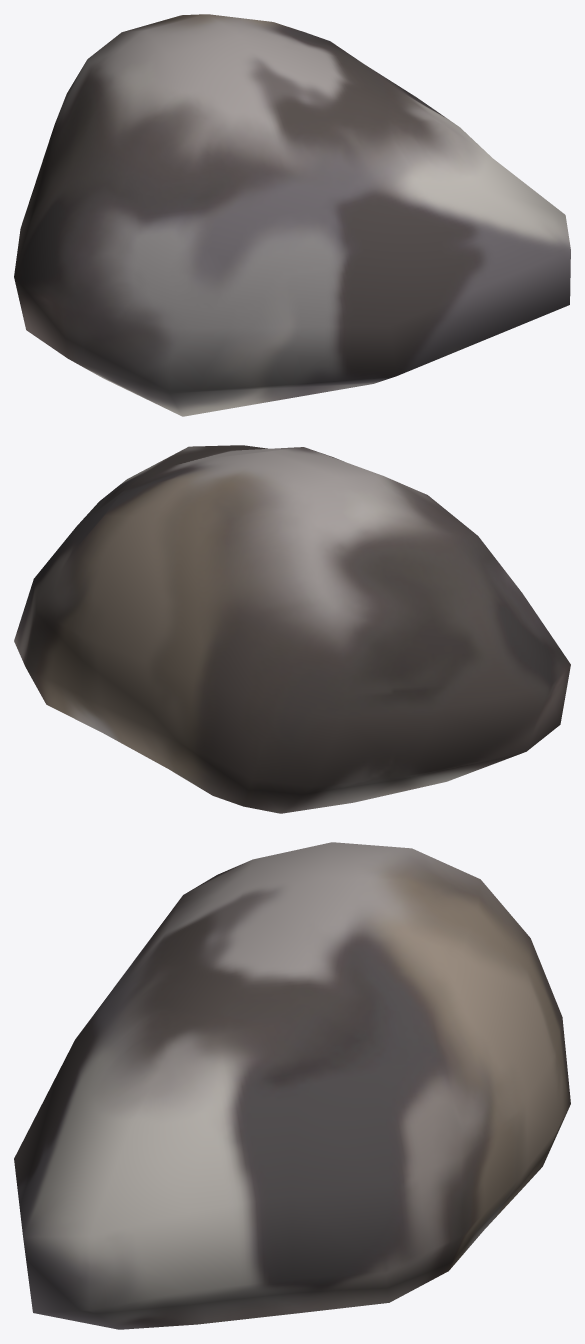
Rendered from Stone.fbx.
The picture shows the model from 3 angles, top to bottom: view 1: azimuth 30°, elevation 25°; view 2: azimuth 150°, elevation 25°; view 3: azimuth 270°, elevation 25°; orthographic projection. The views are drawn at different scales.
Visible parts, largest first — view 1: Stone; view 2: Stone; view 3: Stone.
Part boxes in pixels (left/top/right/bottom): Stone: left=14, top=14, right=570, bottom=416; Stone: left=14, top=445, right=570, bottom=813; Stone: left=14, top=842, right=570, bottom=1329.
Bounding box in the file's own units: 2.66 × 1.6 × 2.11.
